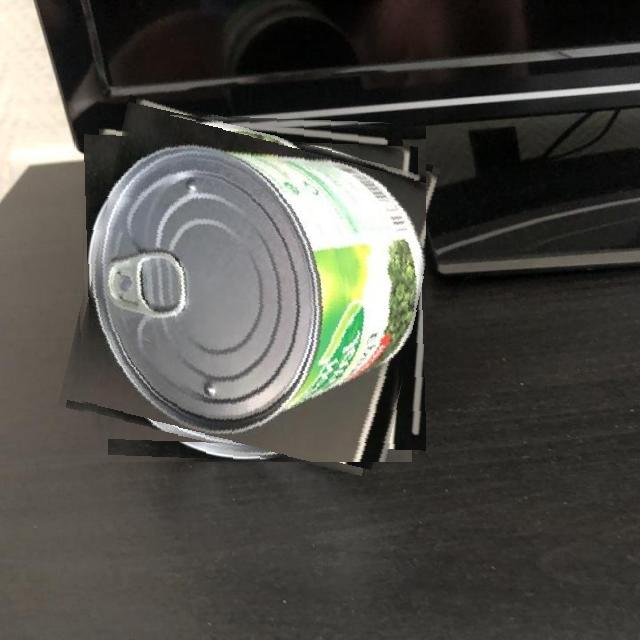recyclable: (74, 111, 426, 462)
